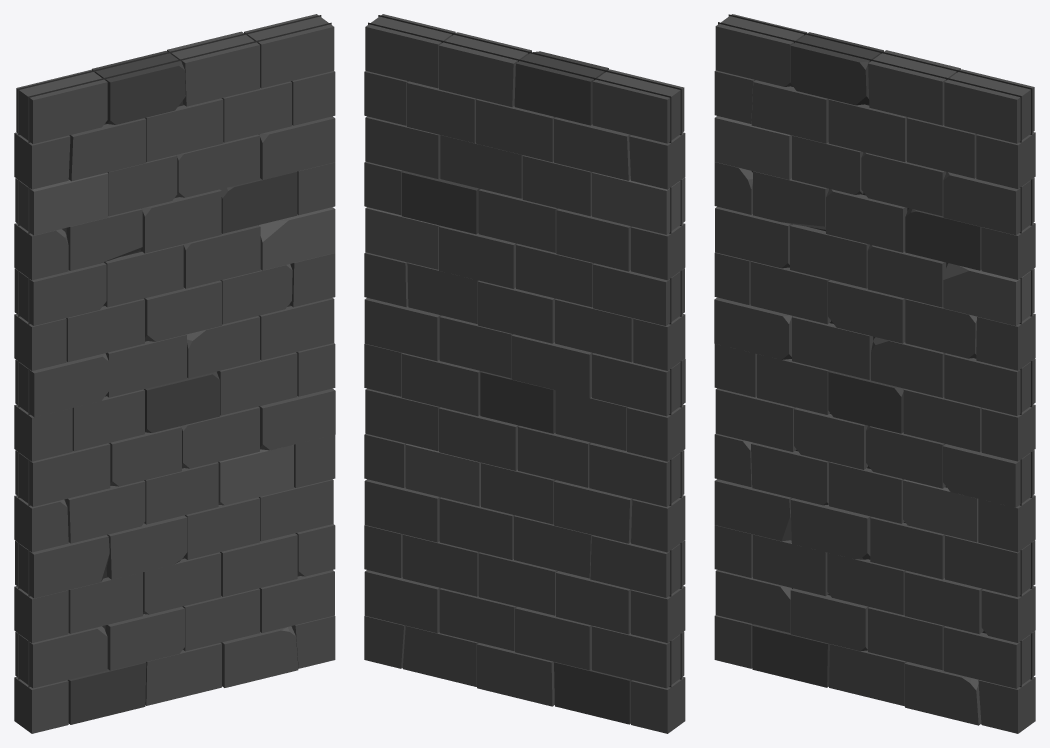
Rendered from CastleWall_02.glb.
3 views of the same model, side by side, from view 1: azimuth 30°, elevation 25°; view 2: azimuth 150°, elevation 25°; view 3: azimuth 330°, elevation 25° (orthographic).
Visible parts, largest first — view 1: CastleWall_02_LOD0; view 2: CastleWall_02_LOD0; view 3: CastleWall_02_LOD0.
Part boxes in pixels (box(x1,y1,x2,y2)): CastleWall_02_LOD0: box(14, 14, 335, 733); CastleWall_02_LOD0: box(364, 14, 685, 733); CastleWall_02_LOD0: box(714, 14, 1035, 733).
Size of what is drawn, in the model's own units: 2.5 by 5 by 0.2837.
Materials: 1 (1 with a texture image).
